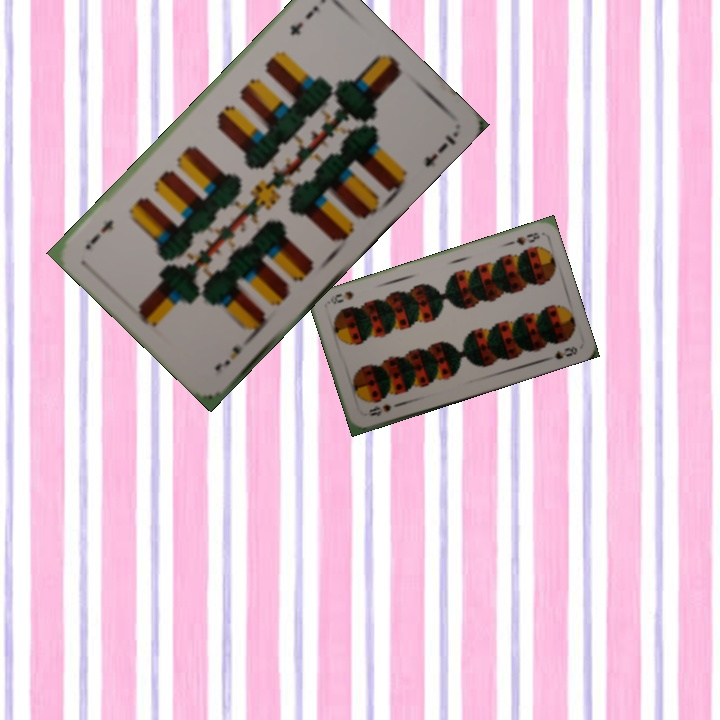E7: (210, 332, 255, 374), (286, 1, 322, 39)
S8: (503, 228, 542, 248), (365, 400, 394, 419)
